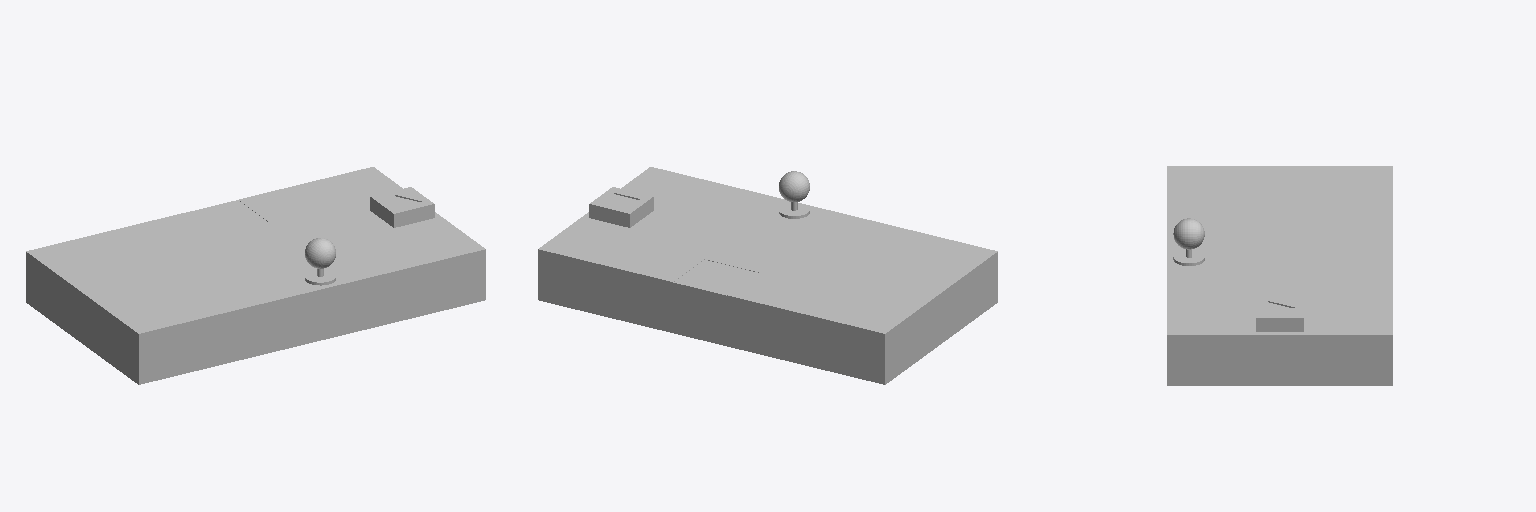
The model's file is Map3.obj.
The picture shows the model from 3 angles: view 1: azimuth 30°, elevation 25°; view 2: azimuth 150°, elevation 25°; view 3: azimuth 270°, elevation 25°; orthographic projection.
Visible parts, largest first — view 1: Map1&Map2_v11_Body22_0; view 2: Map1&Map2_v11_Body22_0; view 3: Map1&Map2_v11_Body22_0.
Part boxes in pixels (bbox=[...]): Map1&Map2_v11_Body22_0: bbox=[26, 167, 485, 384]; Map1&Map2_v11_Body22_0: bbox=[538, 167, 997, 384]; Map1&Map2_v11_Body22_0: bbox=[1167, 166, 1392, 385].
Bounding box in the file's own units: 128 × 31.98 × 72.